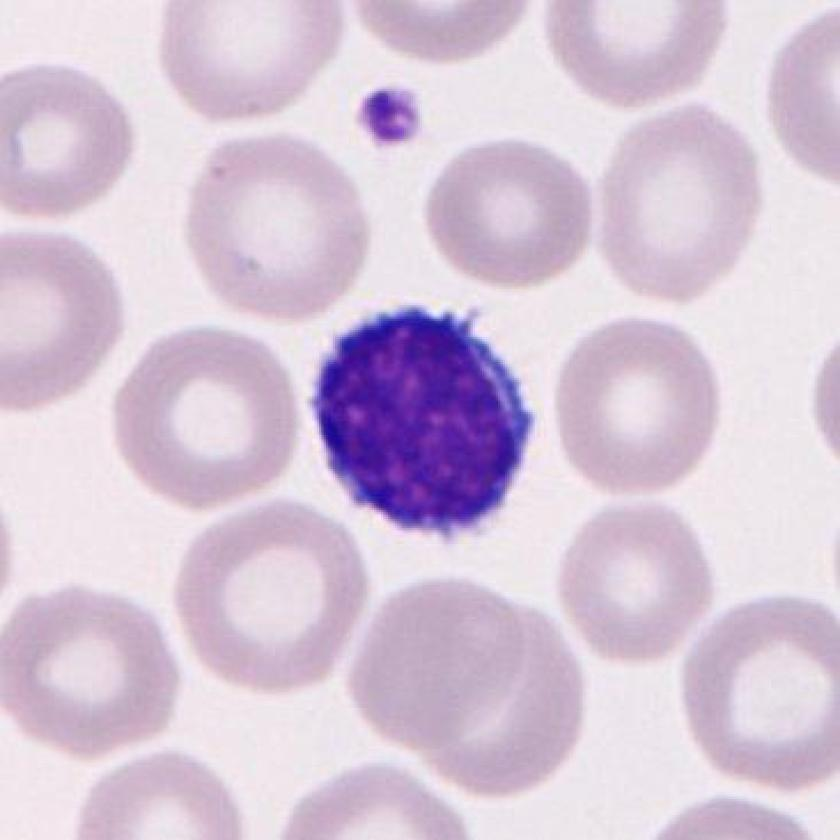lymphocyte: (297, 295, 547, 557)
platelets: (351, 83, 430, 150)
